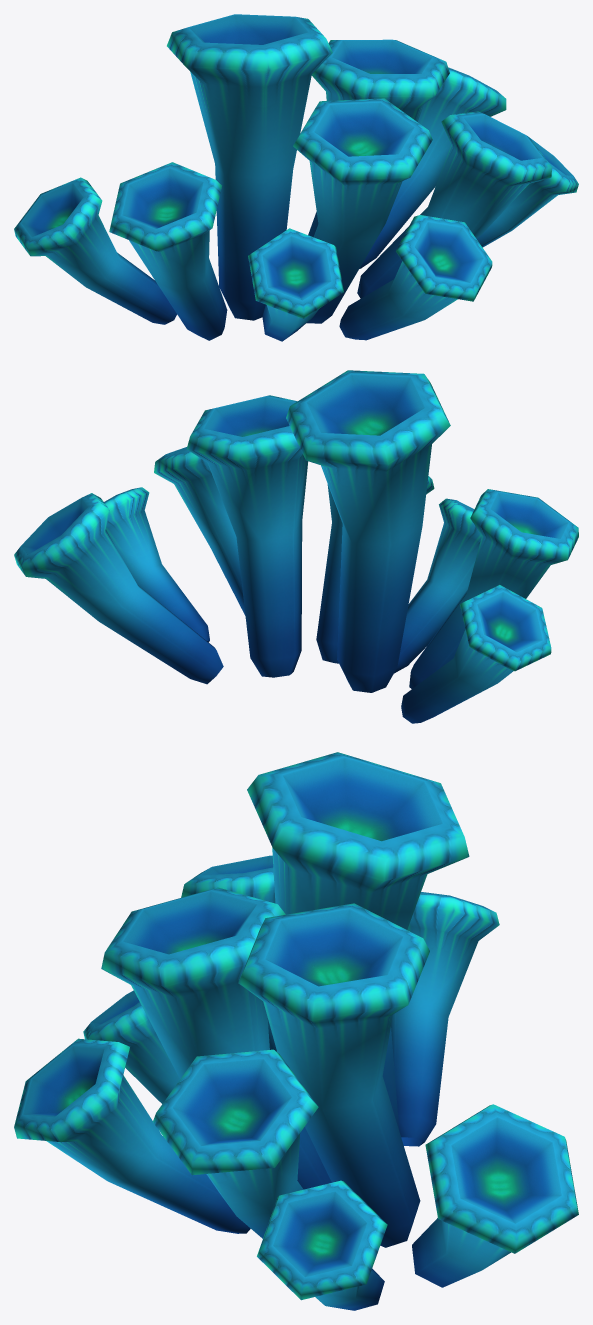
Rendered from Coral_14c.FBX.
The picture shows the model from 3 angles, top to bottom: view 1: azimuth 30°, elevation 25°; view 2: azimuth 150°, elevation 25°; view 3: azimuth 270°, elevation 25°; orthographic projection. The views are drawn at different scales.
Parts seen in each view (by area): view 1: Coral14c; view 2: Coral14c; view 3: Coral14c.
Part boxes in pixels (x1,y1,x2,y2): Coral14c: [14, 14, 578, 341]; Coral14c: [14, 370, 578, 723]; Coral14c: [14, 752, 578, 1310].
Bounding box in the file's own units: 79.84 × 45.14 × 56.31.
